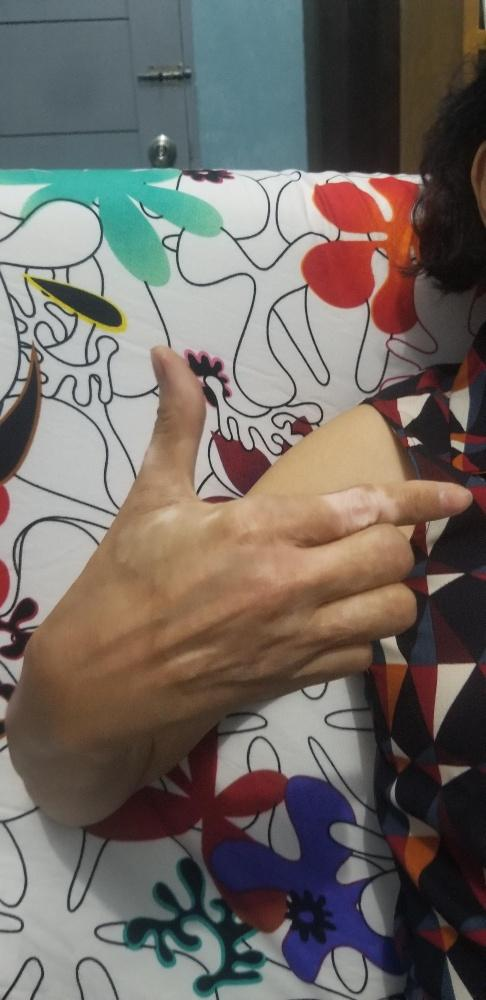g: (3, 340, 473, 776)
